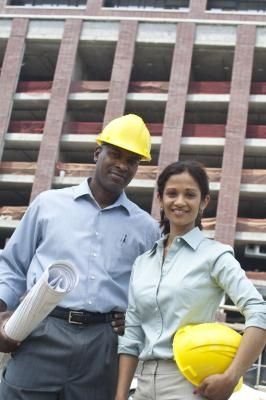hard hat: (173, 322, 245, 390), (97, 113, 152, 161)
